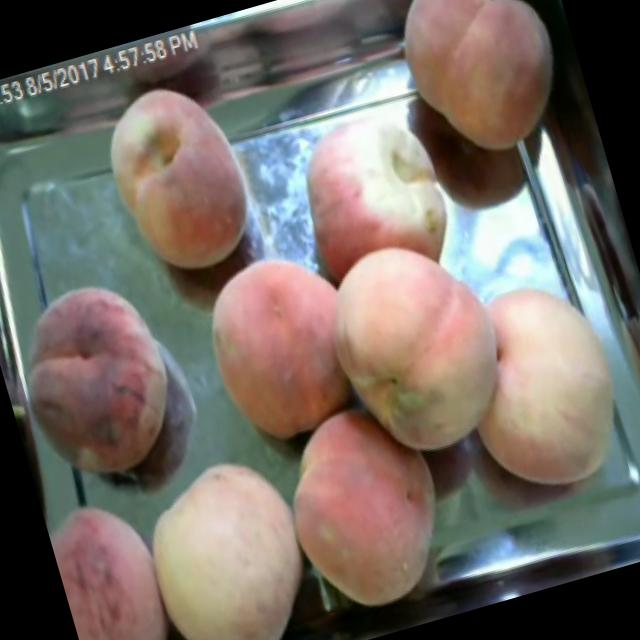Fruit: (306, 204, 538, 483), (427, 256, 640, 519), (263, 378, 477, 632), (0, 256, 208, 514), (273, 81, 492, 314), (82, 60, 275, 295), (182, 235, 376, 468), (124, 431, 334, 640), (363, 0, 595, 187), (39, 469, 208, 640)
